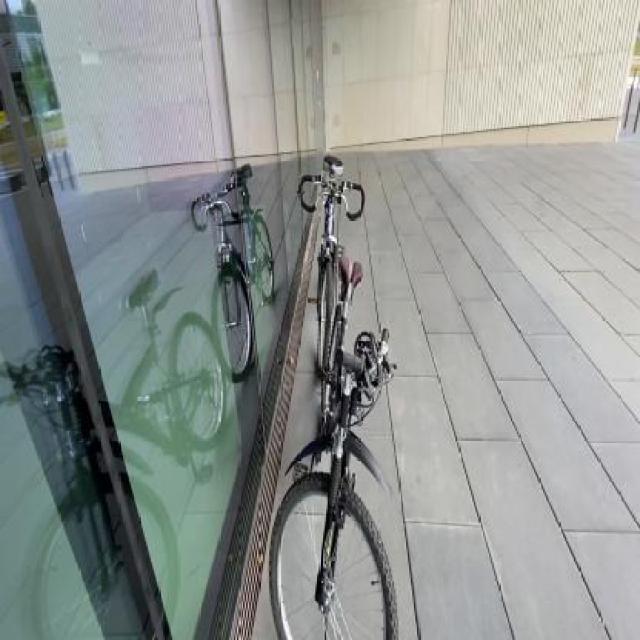bicycle: (216, 170, 418, 639), (292, 116, 368, 350)
